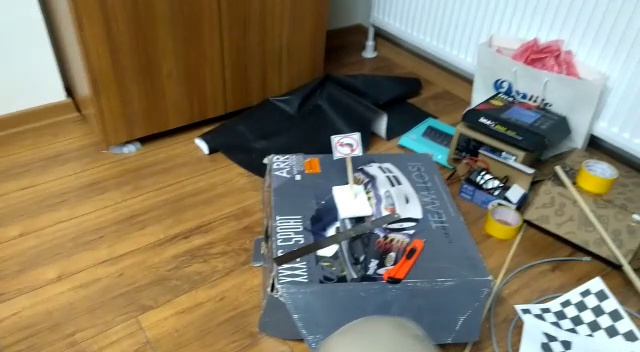sola_donulmez: (335, 134, 359, 156)
